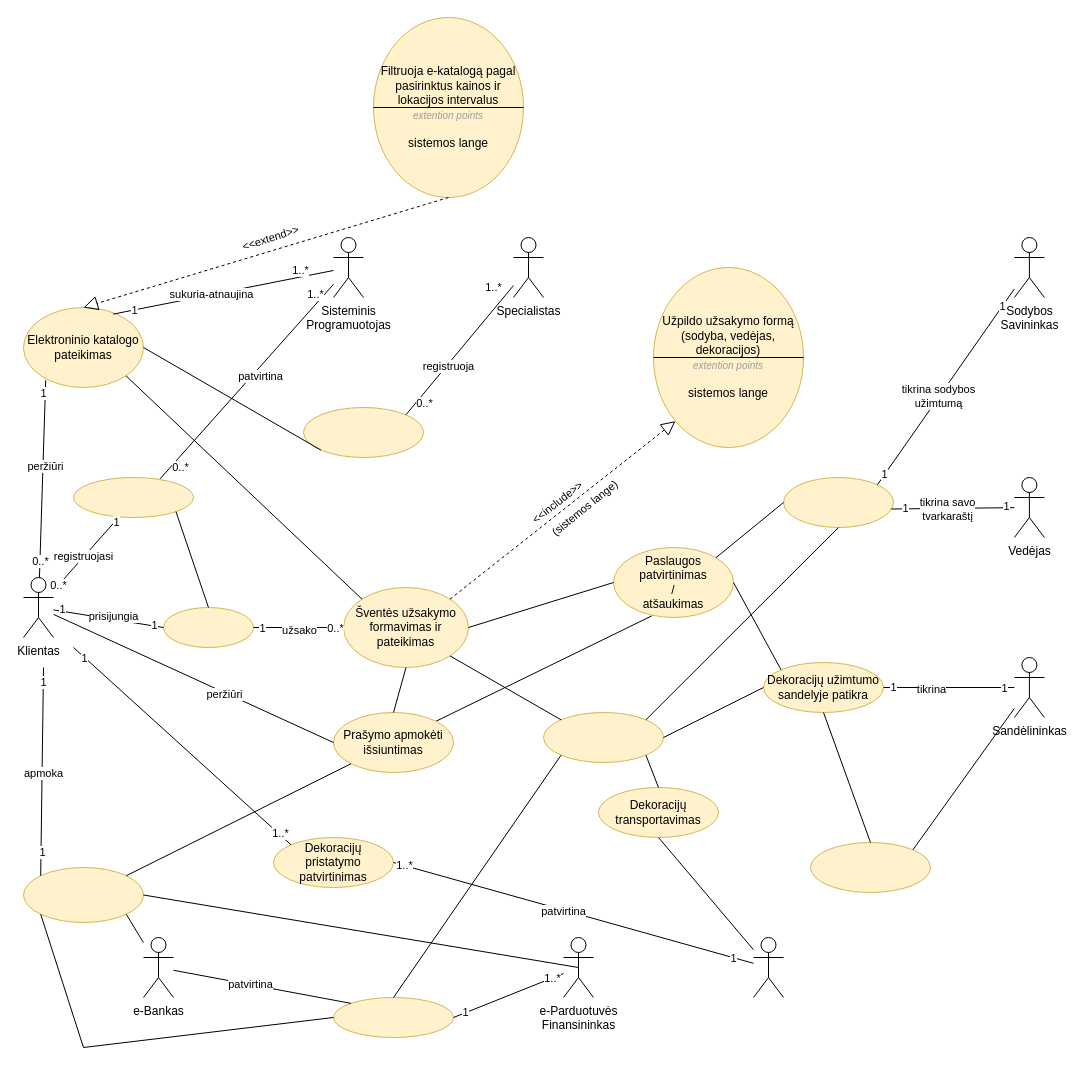
The diagram is 1084 pixels wide and 1066 high, and some of its shapes have lost their labels. Each missing label, with the centre of its shape:
"Apmokėjimo patvirtinimas" belongs at point 393,1017.
"e-Apmokėjimas už užsakymą" belongs at point 83,894.
"Kliento registracija" belongs at point 133,497.
"Paslaugos užimtumo patikra" belongs at point 838,502.
"Pateikia paslaugos aprašą" belongs at point 363,432.
"Prisijungimas" belongs at point 208,627.
"Sandėlio DB tvarkymas" belongs at point 870,867.
"Vairuotojas" belongs at point 768,967.
"Šventės užsakymo vykdymas" belongs at point 603,737.
